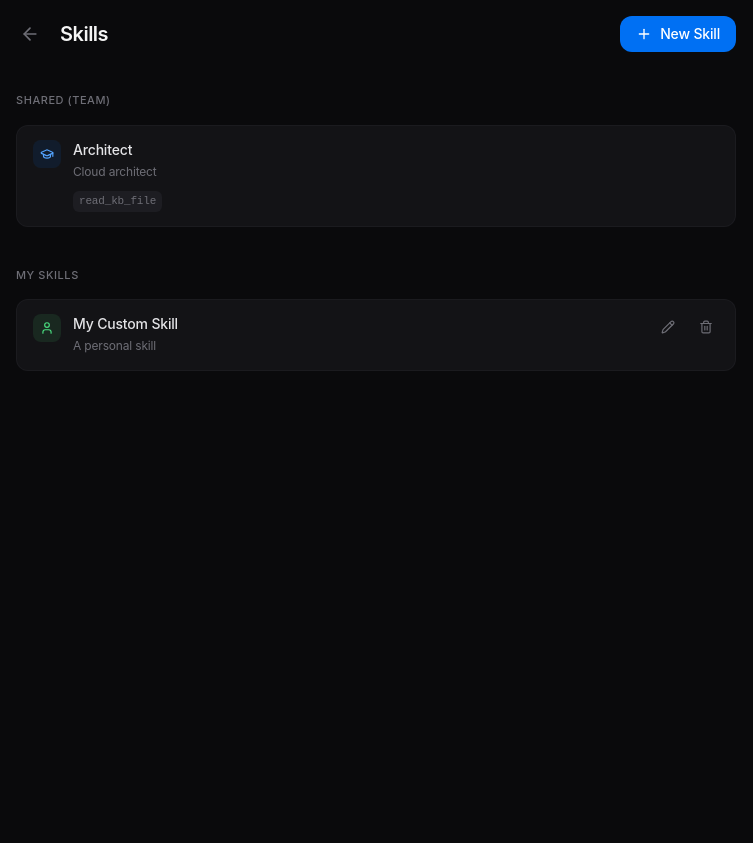
SkillsPage › switches to editor when New Skill is clicked
The width and height of the screenshot is (753, 843).
Expected: the heading "Skills" is shown, [60, 20, 108, 48]
Click the button "New Skill".
click(678, 34)  # box [620, 16, 736, 52]
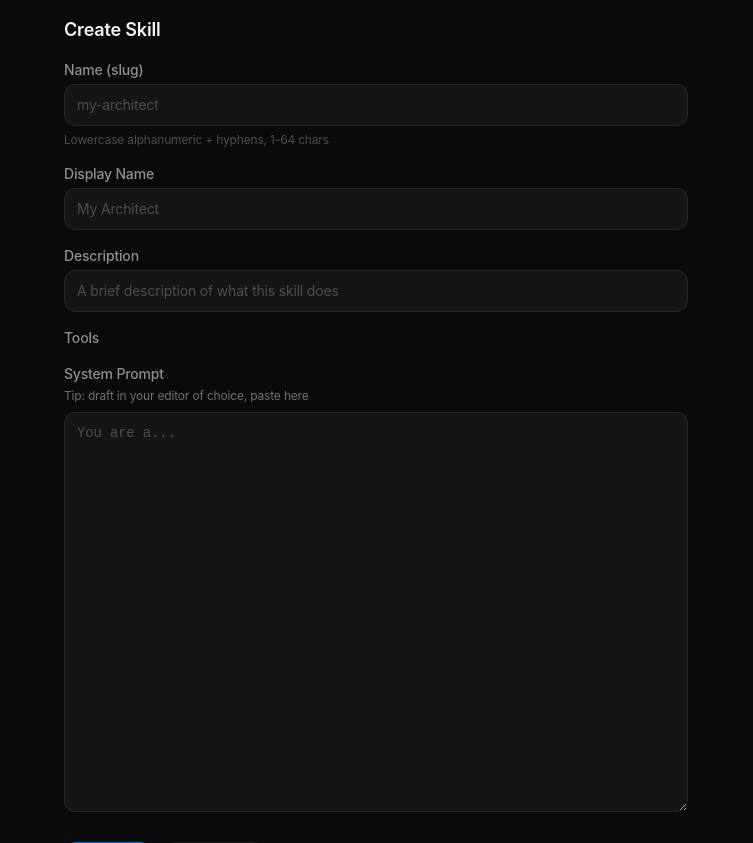
Now the heading "Create Skill" is shown, box [64, 19, 160, 40]
